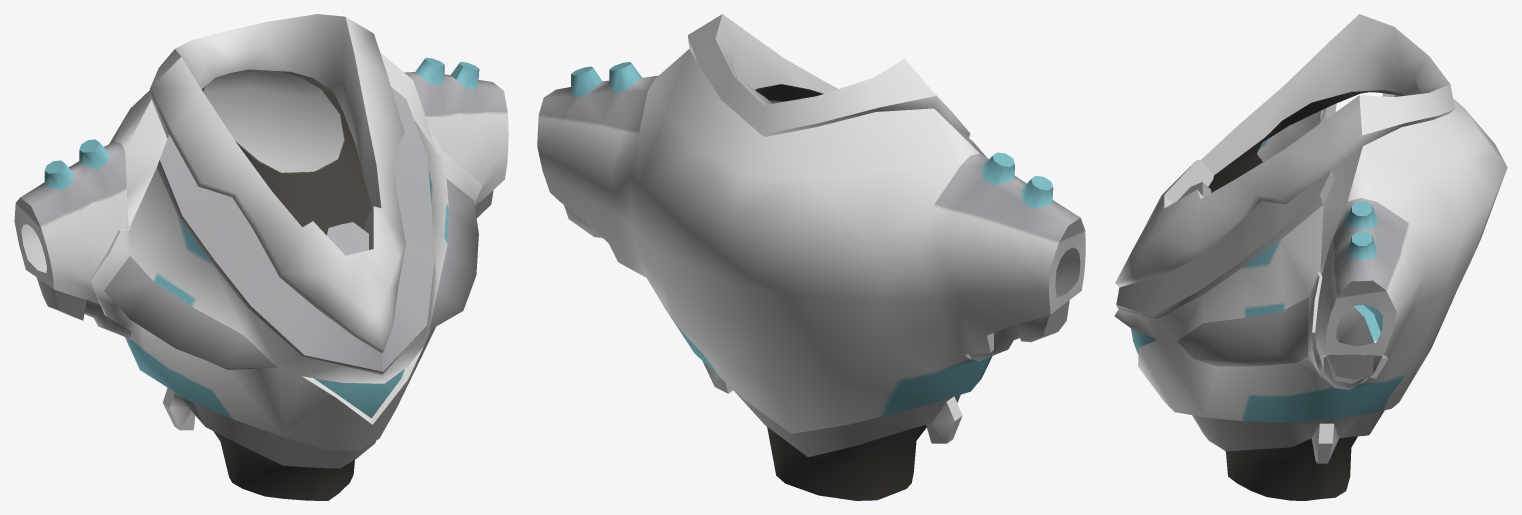
Rendered from ranger_body.fbx.
The picture shows the model from 3 angles, left to right: view 1: azimuth 30°, elevation 25°; view 2: azimuth 150°, elevation 25°; view 3: azimuth 270°, elevation 25°; orthographic projection. The views are drawn at different scales.
Parts seen in each view (by area): view 1: body; view 2: body; view 3: body.
Part boxes in pixels (left/top/right/bottom): body: left=14, top=14, right=508, bottom=500; body: left=537, top=14, right=1085, bottom=500; body: left=1114, top=14, right=1507, bottom=500.
Size of the model in its own units: 58.85 by 49.6 by 41.88.
